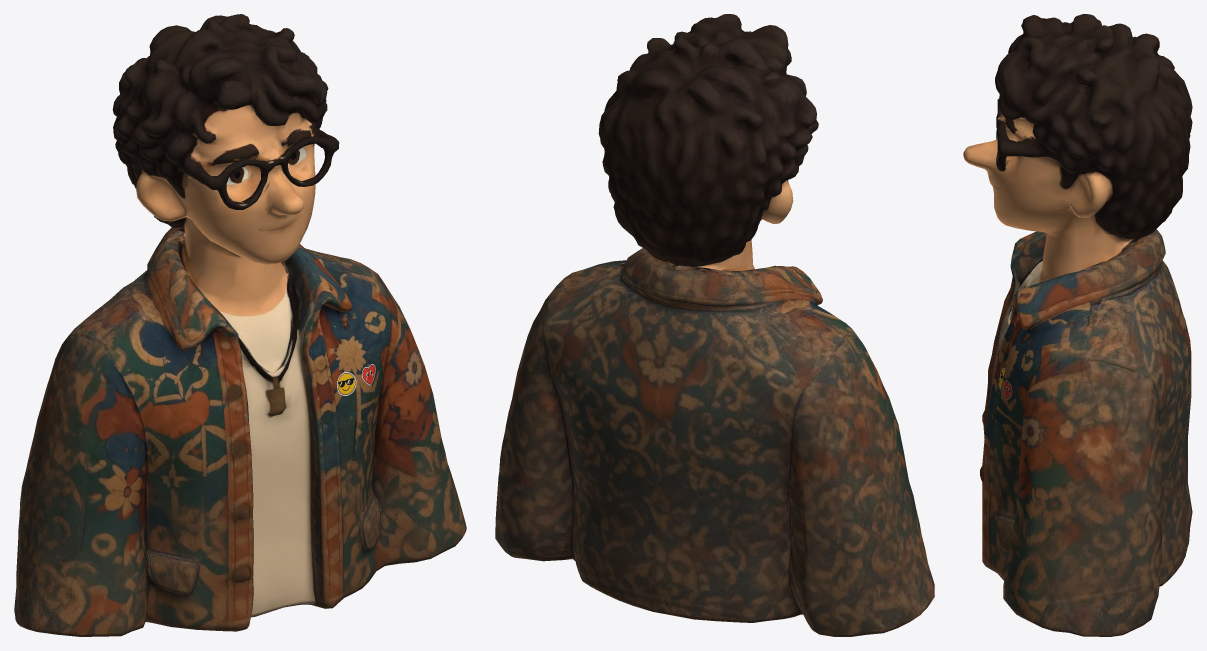
3 views of the same model, side by side, from view 1: azimuth 30°, elevation 25°; view 2: azimuth 150°, elevation 25°; view 3: azimuth 270°, elevation 25° (orthographic). The views are drawn at different scales.
Visible parts, largest first — view 1: Mesh_0; view 2: Mesh_0; view 3: Mesh_0.
Part boxes in pixels (x1,y1,x2,y2): Mesh_0: (14, 14, 466, 636); Mesh_0: (495, 14, 934, 636); Mesh_0: (963, 14, 1192, 636).
Bounding box in the file's own units: 1.63 × 2 × 0.8009.
3 materials, 3 textured.
